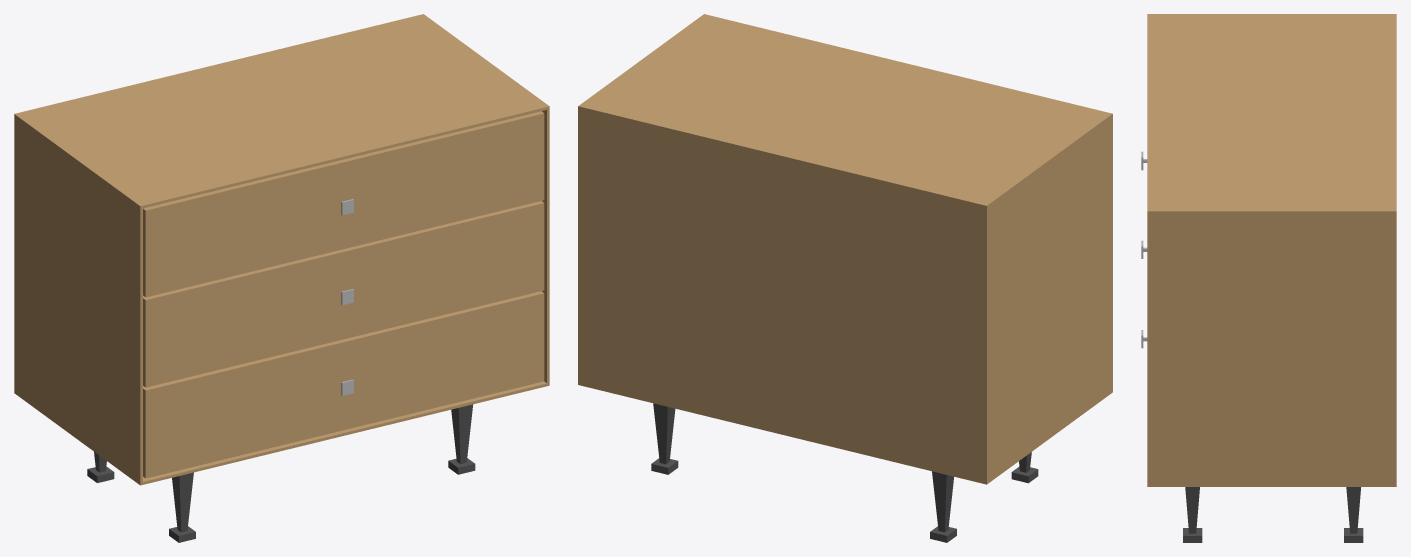
The model's file is low_poly_drawer_5.glb.
3 renders of one model, left to right at view 1: azimuth 30°, elevation 25°; view 2: azimuth 150°, elevation 25°; view 3: azimuth 270°, elevation 25°, orthographic.
Parts seen in each view (by area): view 1: drawer5; view 2: drawer5; view 3: drawer5.
Part boxes in pixels (x1=…): drawer5: x1=14, y1=14, x2=549, y2=542; drawer5: x1=578, y1=14, x2=1112, y2=542; drawer5: x1=1141, y1=14, x2=1396, y2=542.
Bounding box in the file's own units: 86 × 73 × 47.
